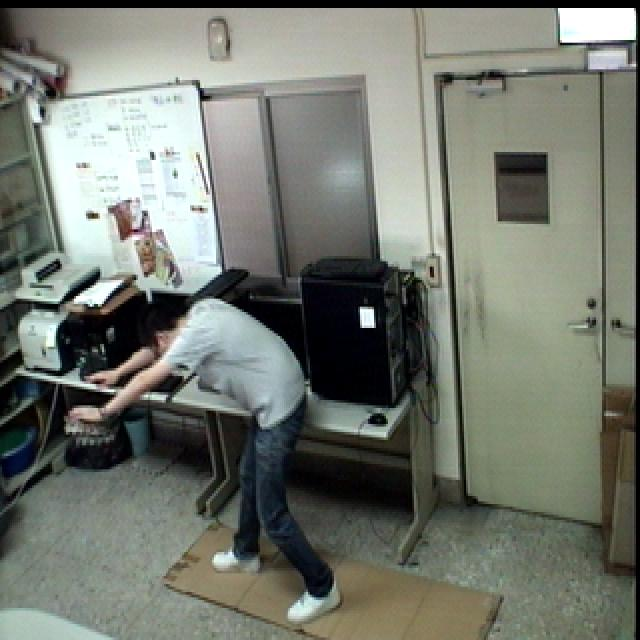bend: (64, 277, 347, 634)
